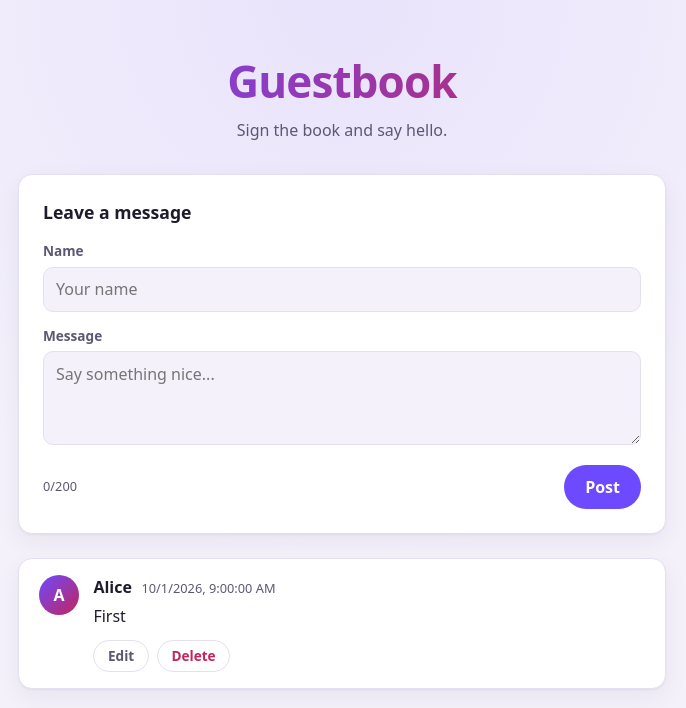
Test: App › removes a deleted message after confirmation
Expected: the text "First" is shown, top-left (93, 605), bottom-right (126, 627)
Click the button "Delete" at x=194, y=656, box top-left (157, 640), bottom-right (230, 672)
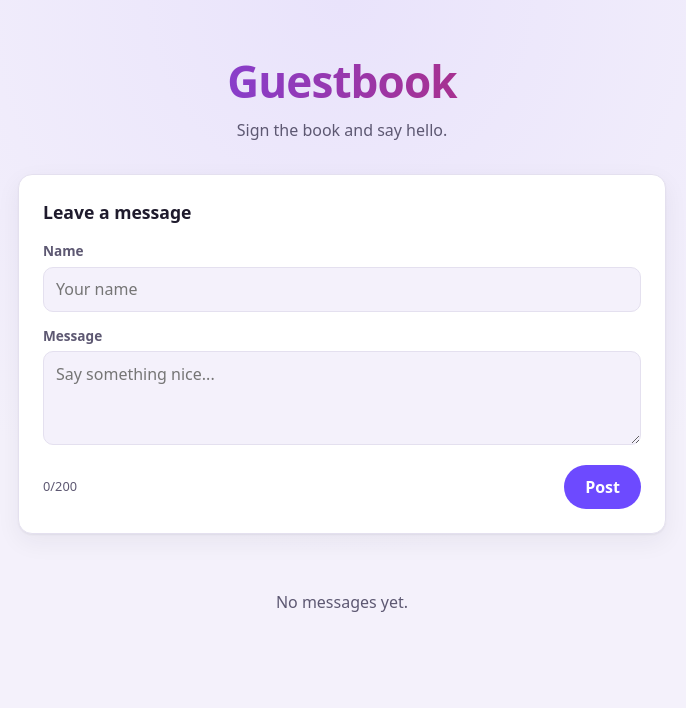
Now the text "No messages yet." is shown, box top-left (276, 590), bottom-right (408, 612)
